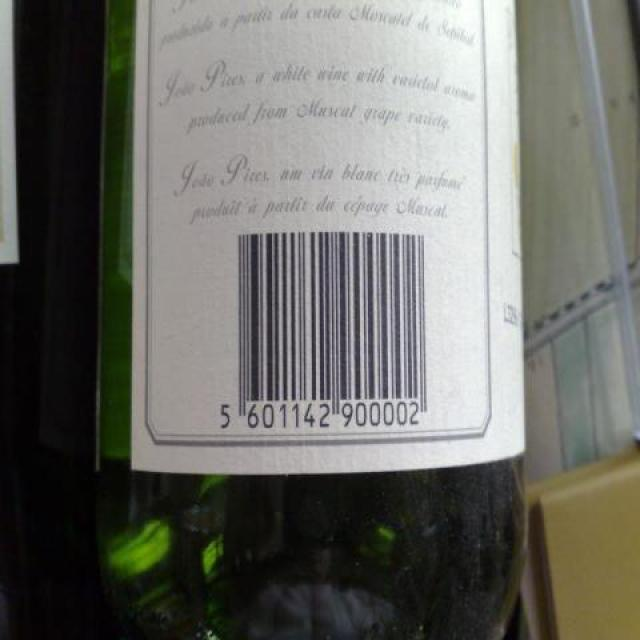Barcode: (217, 225, 442, 431)
